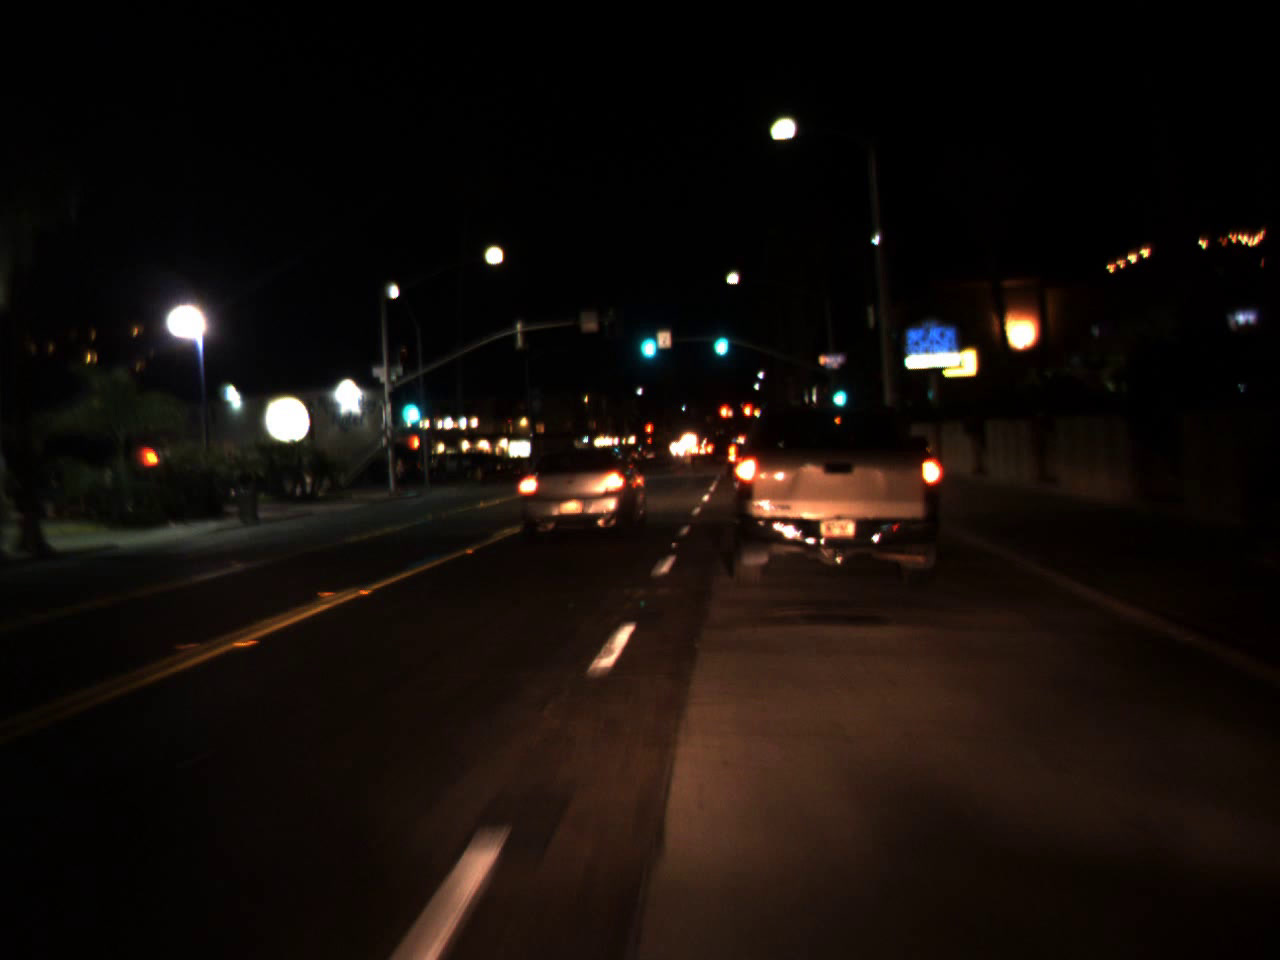go: (395, 379, 422, 430), (635, 314, 660, 365), (708, 312, 731, 363), (828, 372, 849, 411)
